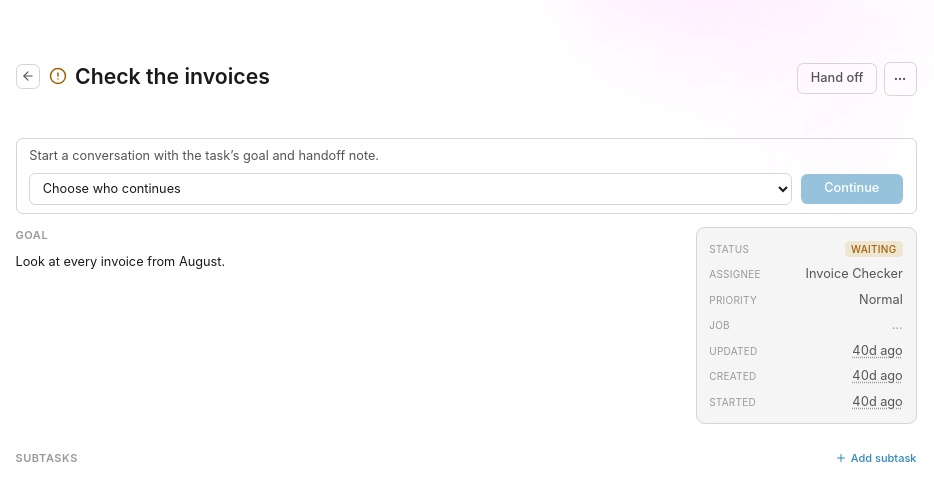
a task whose conversation is gone › keeps the selection and control when main refuses to start
Expected: the heading "Check the invoices" is shown, [75, 62, 270, 91]
Select "Default chat model" in the dropdown named "Continue with". click: (411, 189)
box: [29, 173, 792, 205]
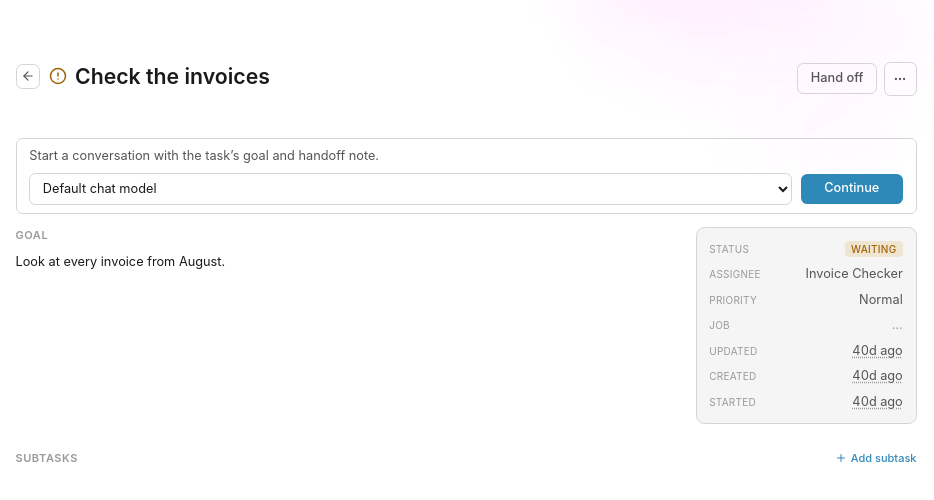
Click the button "Continue". click: (852, 189)
box: [801, 174, 903, 204]
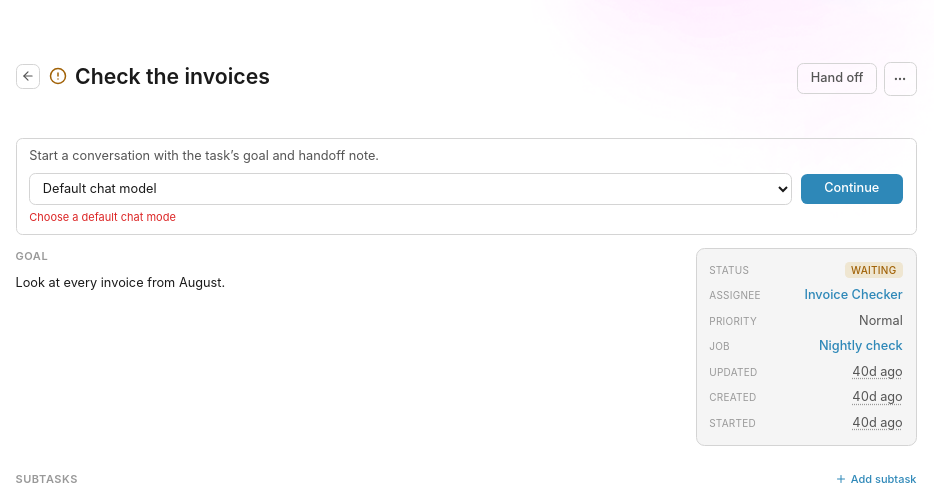
Select "Invoice Checker" in the dropdown named "Continue with". click: (411, 189)
box: [29, 173, 792, 205]
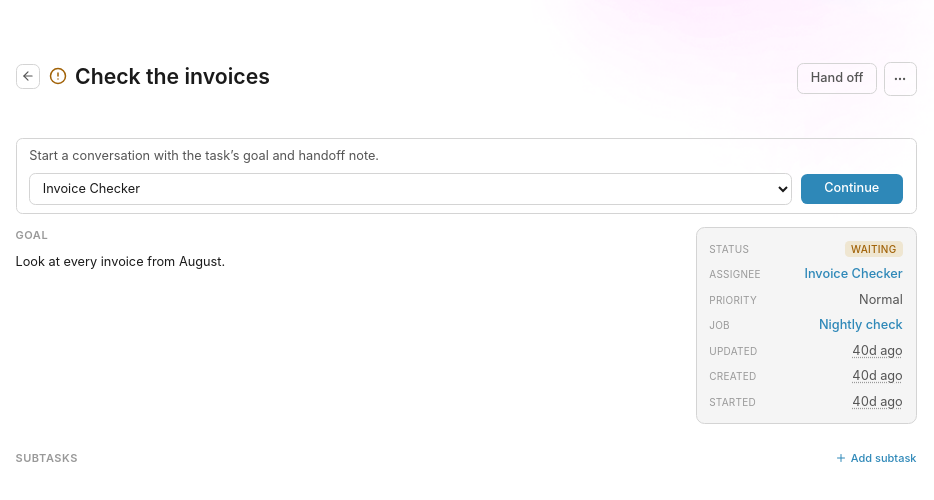
Now the button "Continue" is enabled, box [801, 174, 903, 204]
Now the text "Choose a default chat mode" is gone
